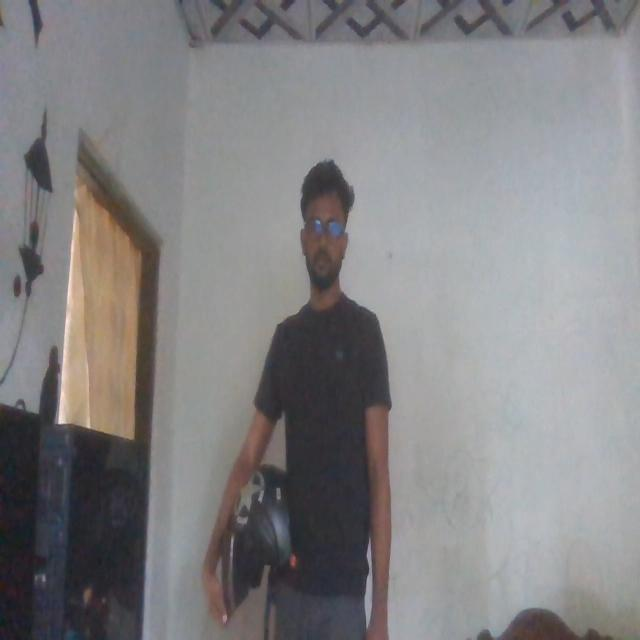Person: (243, 158, 399, 630)
